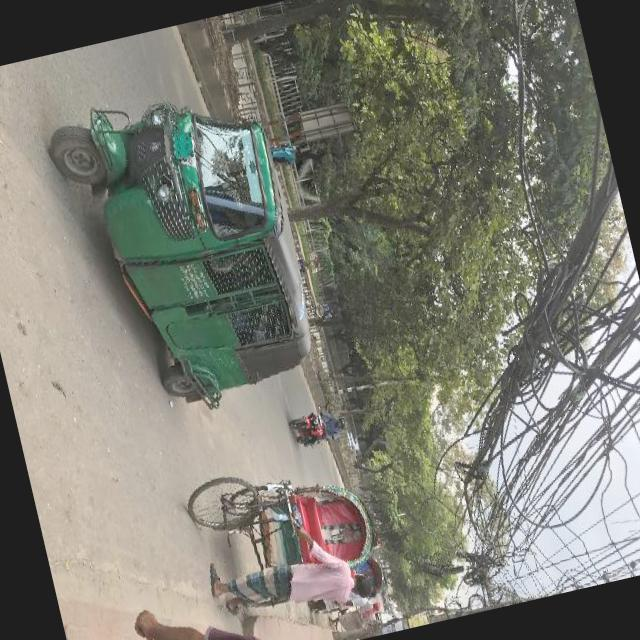car: (346, 428, 361, 458)
motorcycle: (39, 67, 327, 434), (178, 442, 384, 604), (282, 397, 352, 452), (310, 298, 334, 322), (382, 602, 394, 614)
